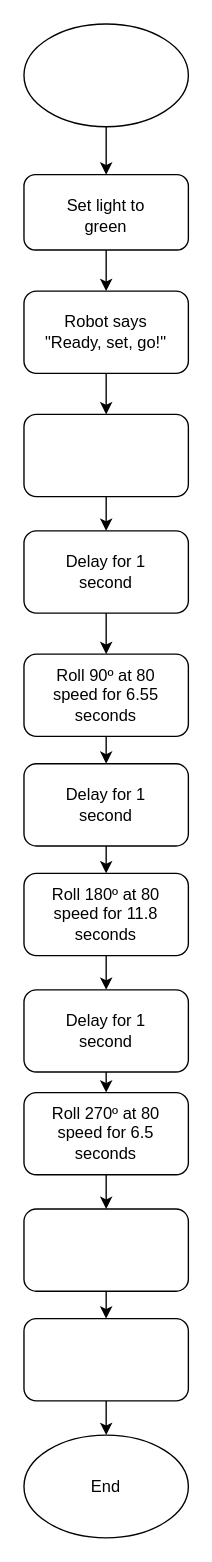
Image size: 212x1562. Some labels were removed from this diagram. Here are the shapes that lost their labels. From the top down, the centre of each, then its label:
(x=105, y=75): Start
(x=105, y=455): Roll 0º at 80 speed for 11.75 seconds
(x=105, y=1249): Set light to red
(x=105, y=1359): Robot speaks, "I'm done and I need water."
